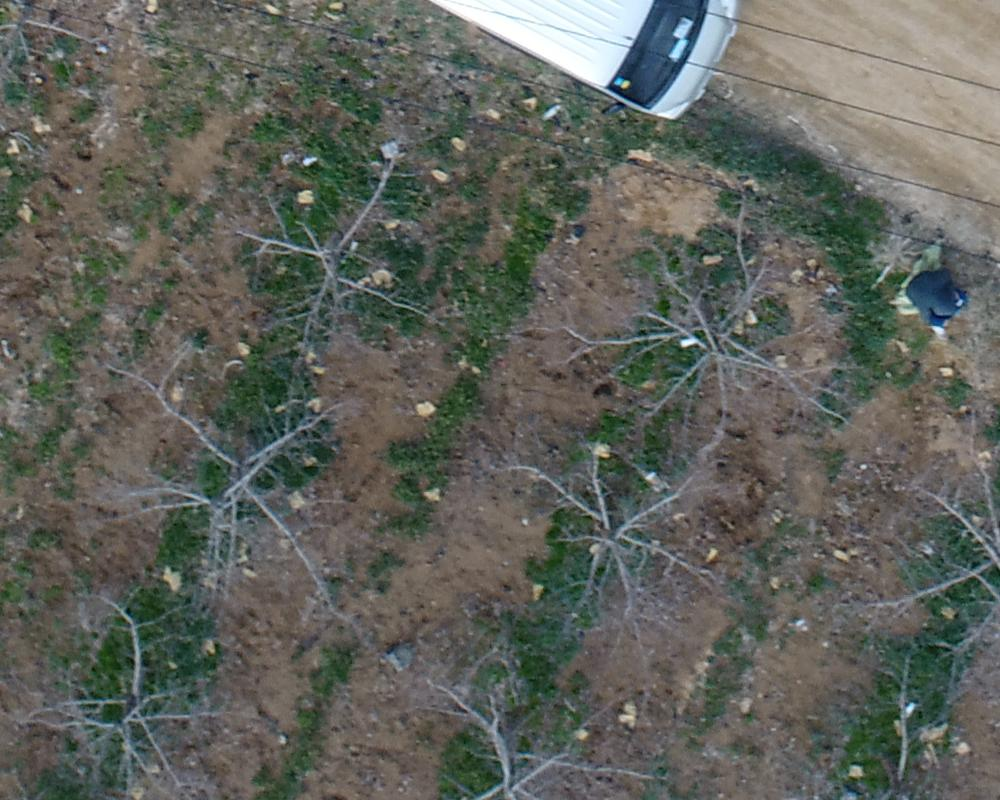apple: (548, 195, 871, 469), (196, 133, 448, 388), (104, 374, 366, 615), (487, 431, 752, 645), (10, 595, 259, 790), (380, 635, 689, 790), (852, 426, 990, 686)
